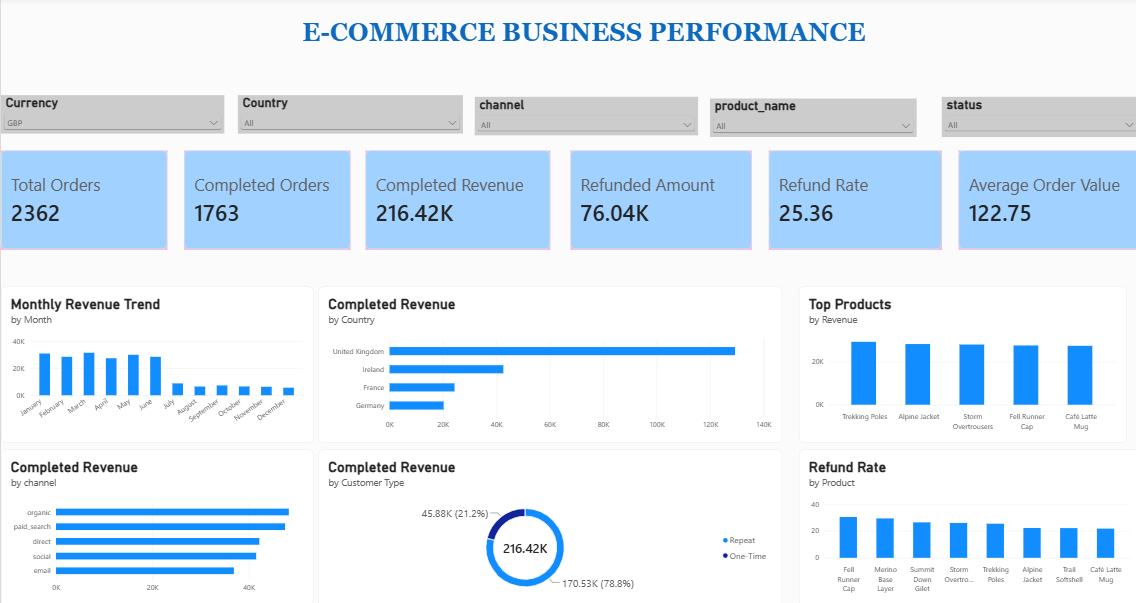

This screenshot's page, from the dashboard's own definition file:
{"tool":"powerbi","page":{"name":"Page 1","canvas":[1920,1080],"ordinal":0},"visuals":[{"type":"cardVisual","fields":{"Data":["ecommerce_analysis.Total_orders"]},"box":[0,260.4,280.2,167],"z":0},{"type":"cardVisual","fields":{"Data":["ecommerce_analysis.Completed Revenue"]},"box":[614.1,260.4,311.3,167],"z":2},{"type":"cardVisual","fields":{"Data":["ecommerce_analysis.amount"]},"box":[959.4,260.4,305.6,167],"z":5},{"type":"cardVisual","fields":{"Data":["ecommerce_analysis.completed orders"]},"box":[308.5,260.4,280.2,167],"z":6},{"type":"cardVisual","fields":{"Data":["ecommerce_analysis.Refund Rate"]},"box":[1293.3,260.4,291.5,167],"z":7},{"type":"cardVisual","fields":{"Data":["ecommerce_analysis.Average Oreder Value"]},"box":[1613.1,260.4,305.6,167],"z":8},{"type":"slicer","fields":{"Values":["ecommerce_analysis.currency"]},"box":[0,167,376.4,65.1],"z":9},{"type":"slicer","fields":{"Values":["ecommerce_analysis.Country"]},"box":[399,167,379.2,65.1],"z":10},{"type":"slicer","fields":{"Values":["ecommerce_analysis.channel"]},"box":[798.1,169.8,376.4,65.1],"z":11},{"type":"slicer","fields":{"Values":["ecommerce_analysis.product_name"]},"box":[1194.3,172.6,348.1,65.1],"z":12},{"type":"slicer","fields":{"Values":["ecommerce_analysis.status"]},"box":[1584.8,169.8,333.9,67.9],"z":13},{"type":"textbox","box":[0,36.8,1918.7,62.3],"z":14},{"type":"clusteredColumnChart","fields":{"Category":["ecommerce_analysis.order_date.Variation.Date Hierarchy.Month"],"Y":["ecommerce_analysis.Completed Revenue"]},"box":[0,489.6,526.4,263.2],"z":15},{"type":"clusteredBarChart","fields":{"Category":["ecommerce_analysis.Country"],"Y":["ecommerce_analysis.Completed Revenue"]},"box":[534.9,489.6,781.1,263.2],"z":16},{"type":"clusteredColumnChart","title":"Top Products","fields":{"Category":["ecommerce_analysis.product_name"],"Y":["ecommerce_analysis.Completed Revenue"]},"box":[1344.3,489.6,551.9,263.2],"z":17},{"type":"clusteredBarChart","fields":{"Category":["ecommerce_analysis.channel"],"Y":["ecommerce_analysis.Completed Revenue"]},"box":[0,763,526,263],"z":18},{"type":"clusteredColumnChart","title":"Refund Rate ","fields":{"Category":["ecommerce_analysis.product_name"],"Y":["ecommerce_analysis.Refund Rate"]},"box":[1344.9,762.9,574.9,262.6],"z":19},{"type":"donutChart","fields":{"Category":["Customer Summary.Customer Type"],"Y":["Sum(ecommerce_analysis.order_total)"]},"box":[535.8,762.9,780.7,266.1],"z":20}]}

Visuals, with their boxes on the page's 1920x1080 design canvas (x1, y1, x2, y2). These are canvas units, not pixel positions in the 1136x603 screenshot, which may show the page scaled, cropped or inside an application window:
cardVisual - ecommerce_analysis.Total_orders: <bbox>0, 260, 280, 427</bbox>
cardVisual - ecommerce_analysis.Completed Revenue: <bbox>614, 260, 925, 427</bbox>
cardVisual - ecommerce_analysis.amount: <bbox>959, 260, 1265, 427</bbox>
cardVisual - ecommerce_analysis.completed orders: <bbox>308, 260, 589, 427</bbox>
cardVisual - ecommerce_analysis.Refund Rate: <bbox>1293, 260, 1585, 427</bbox>
cardVisual - ecommerce_analysis.Average Oreder Value: <bbox>1613, 260, 1919, 427</bbox>
slicer - ecommerce_analysis.currency: <bbox>0, 167, 376, 232</bbox>
slicer - ecommerce_analysis.Country: <bbox>399, 167, 778, 232</bbox>
slicer - ecommerce_analysis.channel: <bbox>798, 170, 1174, 235</bbox>
slicer - ecommerce_analysis.product_name: <bbox>1194, 173, 1542, 238</bbox>
slicer - ecommerce_analysis.status: <bbox>1585, 170, 1919, 238</bbox>
textbox: <bbox>0, 37, 1919, 99</bbox>
clusteredColumnChart - ecommerce_analysis.order_date.Variation.Date Hierarchy.Month x ecommerce_analysis.Completed Revenue: <bbox>0, 490, 526, 753</bbox>
clusteredBarChart - ecommerce_analysis.Country x ecommerce_analysis.Completed Revenue: <bbox>535, 490, 1316, 753</bbox>
"Top Products" clusteredColumnChart: <bbox>1344, 490, 1896, 753</bbox>
clusteredBarChart - ecommerce_analysis.channel x ecommerce_analysis.Completed Revenue: <bbox>0, 763, 526, 1026</bbox>
"Refund Rate " clusteredColumnChart: <bbox>1345, 763, 1920, 1026</bbox>
donutChart - Customer Summary.Customer Type x Sum(ecommerce_analysis.order_total): <bbox>536, 763, 1316, 1029</bbox>
